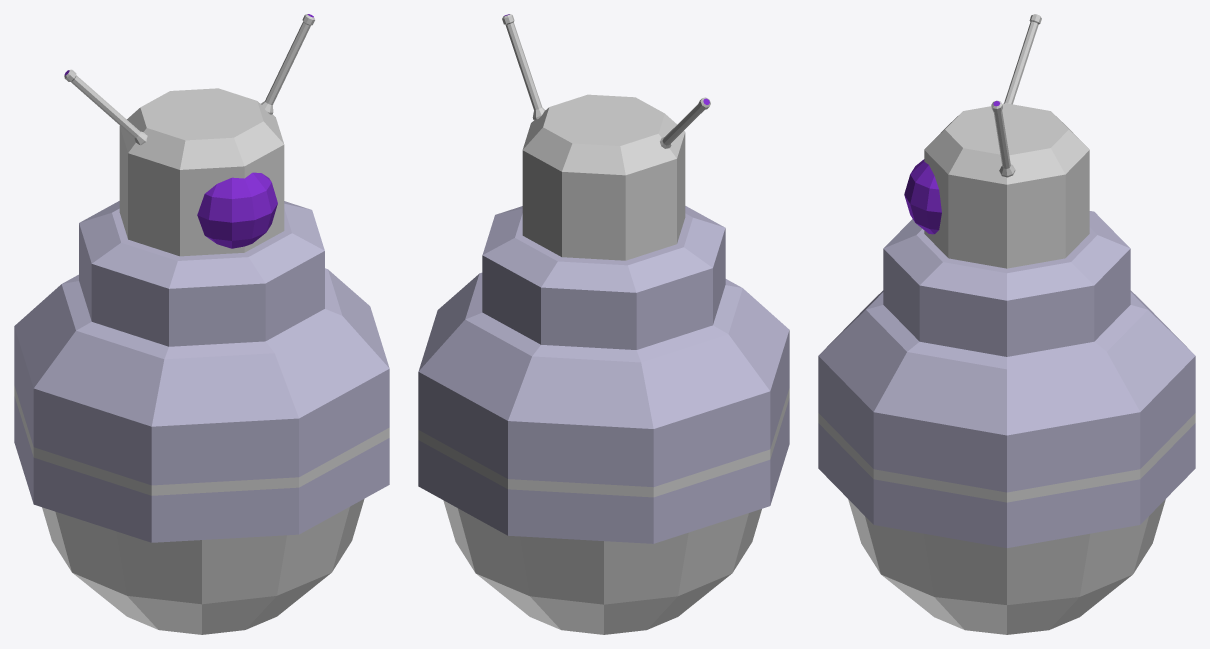
File: robot.fbx
3 views of the same model, side by side, from view 1: azimuth 30°, elevation 25°; view 2: azimuth 150°, elevation 25°; view 3: azimuth 270°, elevation 25° (orthographic). The views are drawn at different scales.
Parts seen in each view (by area): view 1: Cylinder, Sphere.001, Sphere; view 2: Cylinder, Sphere.001, Sphere; view 3: Cylinder, Sphere.001, Sphere.
Boxes of the visible parts, x1,y1,x2,y2 form: Cylinder: [14, 201, 389, 542]; Sphere.001: [64, 14, 314, 256]; Sphere: [42, 499, 364, 634]; Cylinder: [418, 206, 789, 543]; Sphere.001: [502, 14, 710, 260]; Sphere: [443, 500, 761, 634]; Cylinder: [818, 211, 1195, 547]; Sphere.001: [904, 14, 1089, 268]; Sphere: [848, 499, 1165, 634].
Size of the model in its own units: 224 by 372 by 224.
